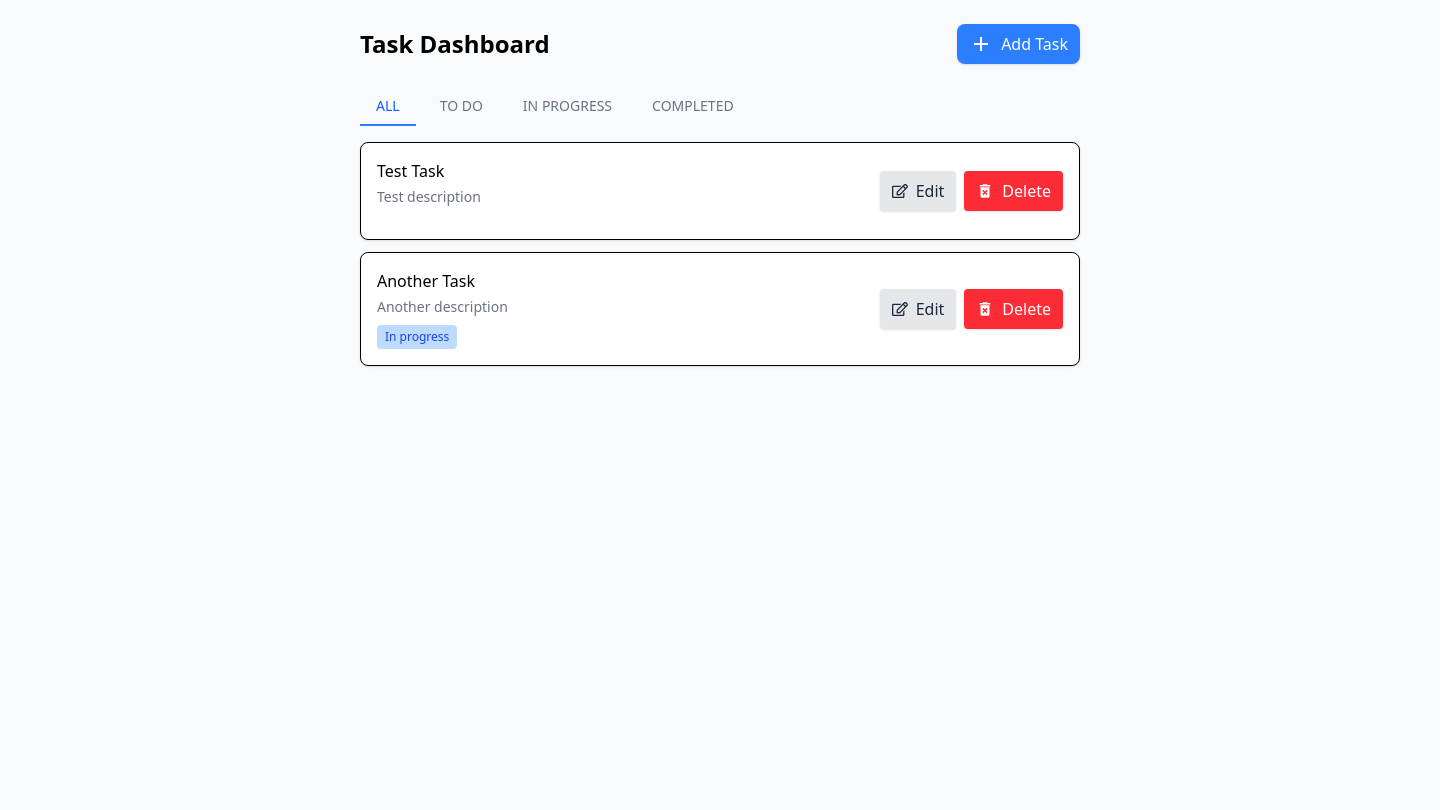
DashboardPage › opens edit modal when edit clicked
Click the button "Edit" in the row of "Test description" at (918, 191), box [880,171,956,211]
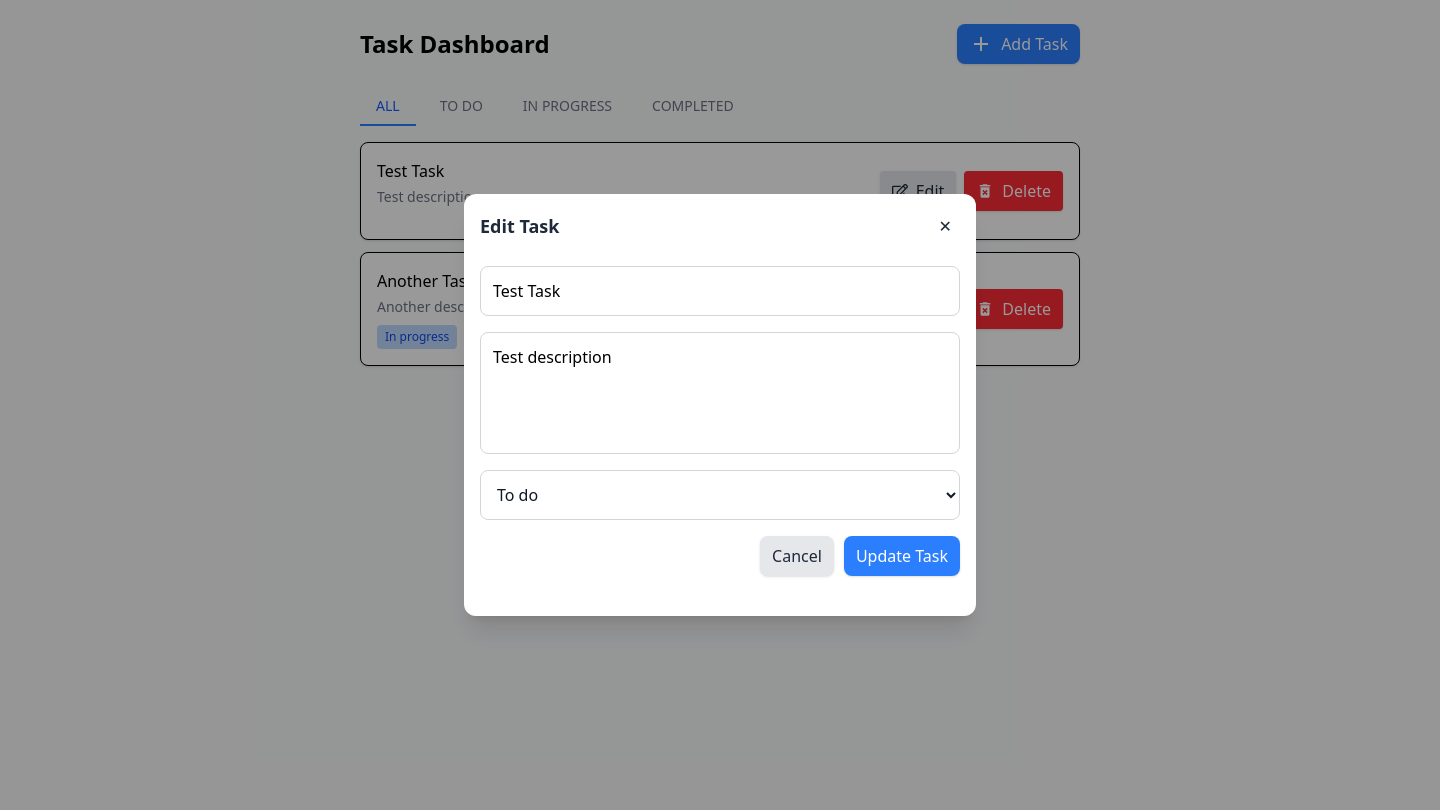
Expected: the heading "Edit Task" is shown, [480,212,559,240]
